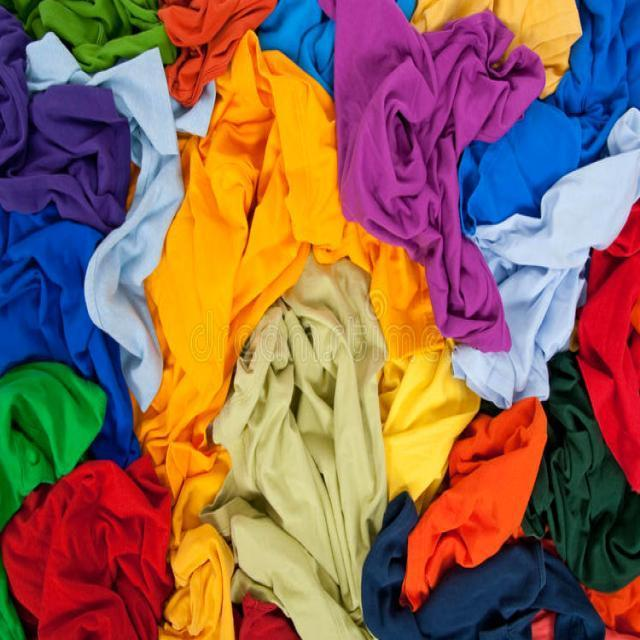clothes: (25, 54, 501, 562)
